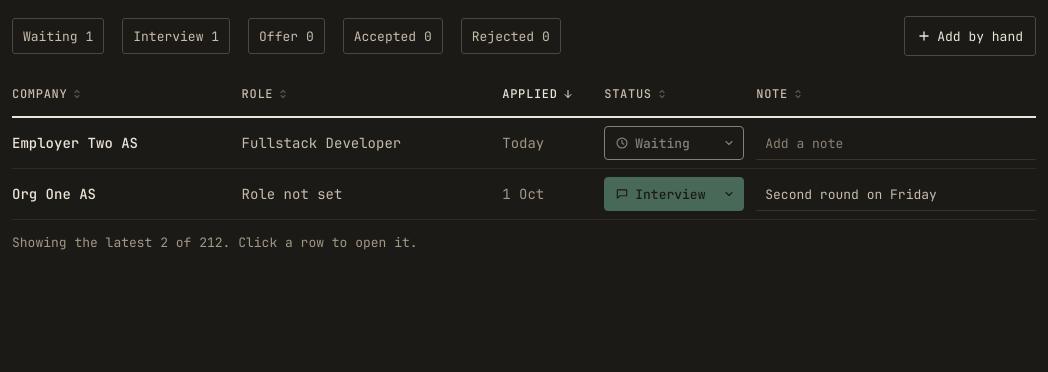
Test: ApplicationsPage › should disable the edit controls while edits are off
This screenshot has width=1048, height=372.
Step 1. Click the button "Add by hand" → (970, 36), box x1=904 y1=16 x2=1036 y2=56
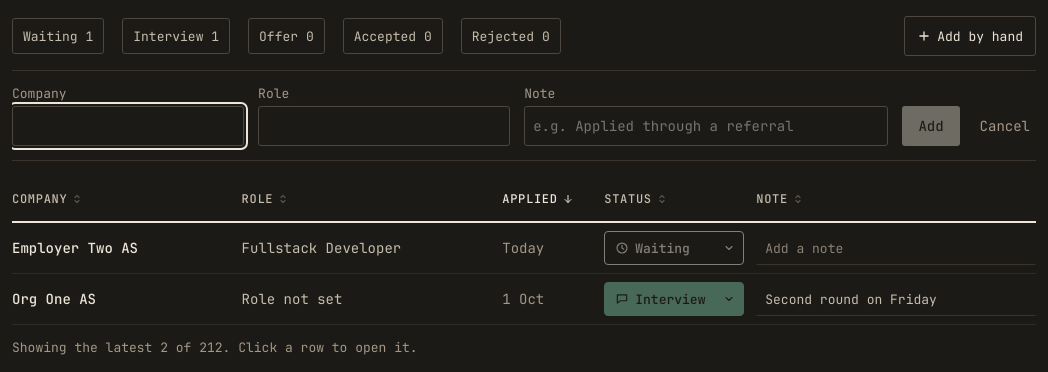
Expected: the button with aria-label "Status: Waiting" is disabled, x1=604 y1=231 x2=744 y2=265
Now the button "Add" is disabled, box x1=902 y1=106 x2=960 y2=146
